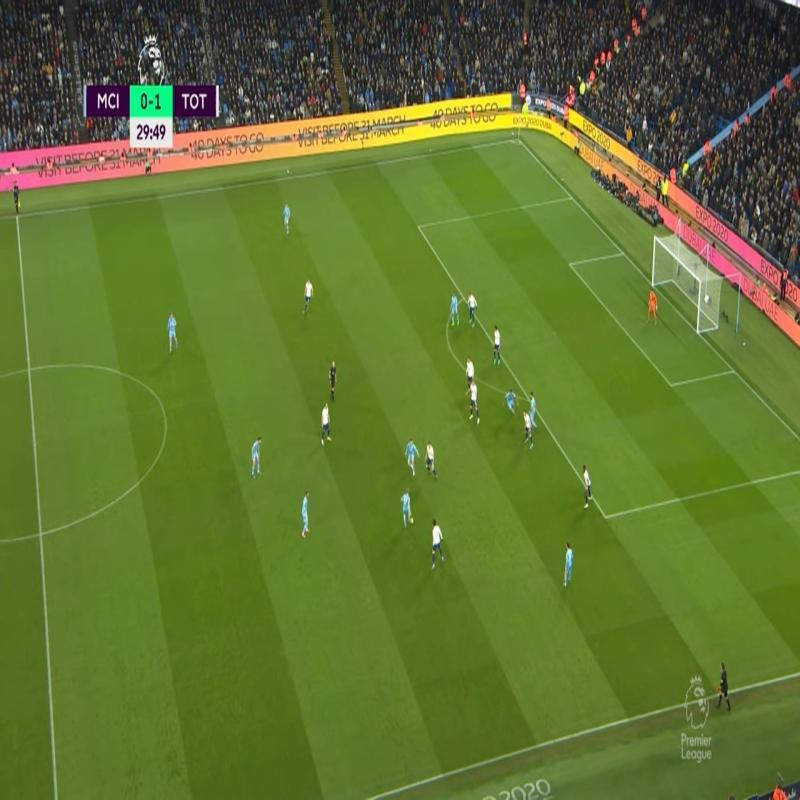1: (509, 132, 526, 149)
10: (458, 288, 468, 308)
11: (522, 388, 536, 410)
12: (598, 511, 613, 526)
13: (12, 208, 26, 224)
14: (19, 361, 38, 380)
15: (32, 525, 50, 543)
2: (562, 189, 580, 208)
3: (615, 244, 630, 260)
4: (724, 361, 742, 379)
7: (566, 256, 574, 273)
8: (662, 375, 678, 392)
9: (410, 220, 426, 235)
c: (160, 413, 174, 428)
